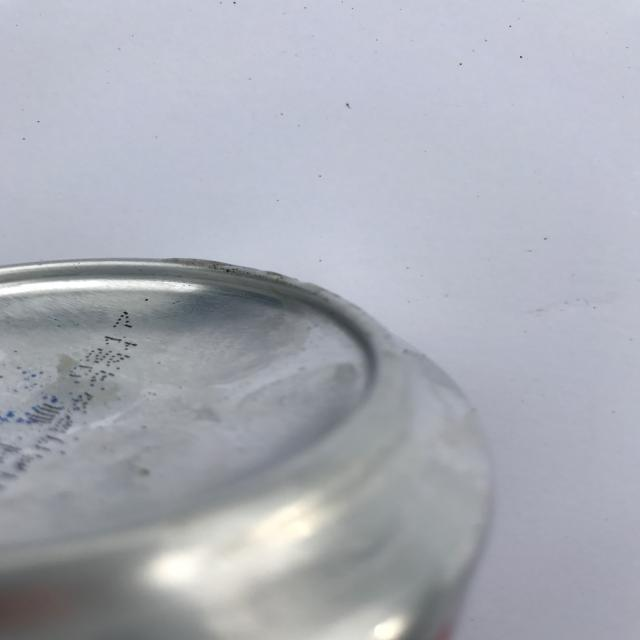metal: (0, 256, 496, 640)
